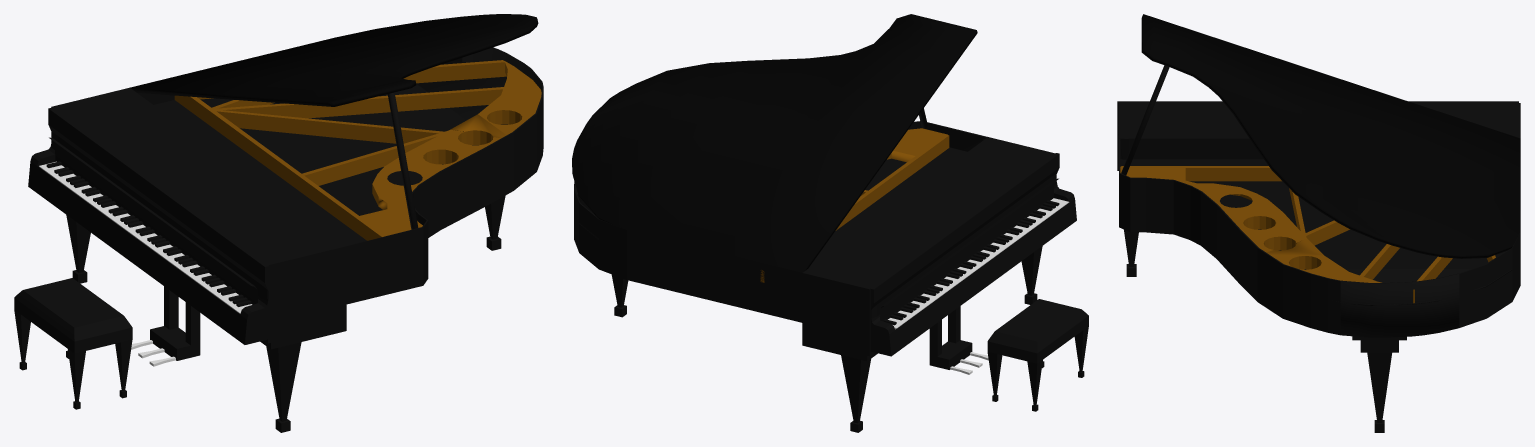
The model's file is piano.dae.
The picture shows the model from 3 angles, left to right: view 1: azimuth 30°, elevation 25°; view 2: azimuth 150°, elevation 25°; view 3: azimuth 270°, elevation 25°; orthographic projection. The views are drawn at different scales.
Visible parts, largest first — view 1: Cube_001, Cube_008, Cube_017, Cube_014, Cube_006, Cube_020, Cube_016, Cube_021, Cube_002, Cube_010, Cube_019, Cube_003 (+4 smaller); view 2: Cube_008, Cube_001, Cube_014, Cube_006, Cube_002, Cube_016, Cube_010, Cube_004, Cube_017, Cube_003, Cube_005; view 3: Cube_008, Cube_001, Cube_017, Cube_005, Cube_016, Cube_009, Cube_021, Cube_020, Cube_003, Cube_018.
Part boxes in pixels (bbox=[...]): Cube_001: bbox=[28, 47, 543, 349]; Cube_008: bbox=[130, 14, 538, 106]; Cube_017: bbox=[357, 62, 541, 235]; Cube_014: bbox=[14, 278, 132, 409]; Cube_006: bbox=[39, 161, 252, 313]; Cube_020: bbox=[207, 87, 510, 125]; Cube_016: bbox=[176, 95, 385, 240]; Cube_021: bbox=[216, 110, 446, 143]; Cube_002: bbox=[49, 137, 257, 302]; Cube_010: bbox=[150, 286, 200, 360]; Cube_019: bbox=[302, 131, 448, 185]; Cube_003: bbox=[266, 342, 301, 432]; Cube_008: bbox=[572, 14, 977, 272]; Cube_001: bbox=[574, 121, 1076, 361]; Cube_014: bbox=[987, 299, 1088, 411]; Cube_006: bbox=[883, 198, 1069, 329]; Cube_002: bbox=[880, 178, 1058, 319]; Cube_016: bbox=[760, 134, 949, 282]; Cube_010: bbox=[929, 306, 972, 369]; Cube_004: bbox=[841, 355, 870, 432]; Cube_017: bbox=[887, 128, 947, 162]; Cube_003: bbox=[1021, 246, 1042, 304]; Cube_005: bbox=[611, 274, 628, 317]; Cube_008: bbox=[1141, 14, 1520, 258]; Cube_001: bbox=[1117, 101, 1520, 337]; Cube_017: bbox=[1120, 166, 1381, 282]; Cube_005: bbox=[1352, 336, 1406, 432]; Cube_016: bbox=[1121, 166, 1281, 181]; Cube_009: bbox=[1121, 65, 1169, 175]; Cube_021: bbox=[1305, 220, 1349, 245]; Cube_020: bbox=[1358, 244, 1399, 279]; Cube_003: bbox=[1124, 229, 1138, 276]; Cube_018: bbox=[1413, 256, 1452, 303].
Bounding box in the file's own units: 11.1 × 8.12 × 6.36.
